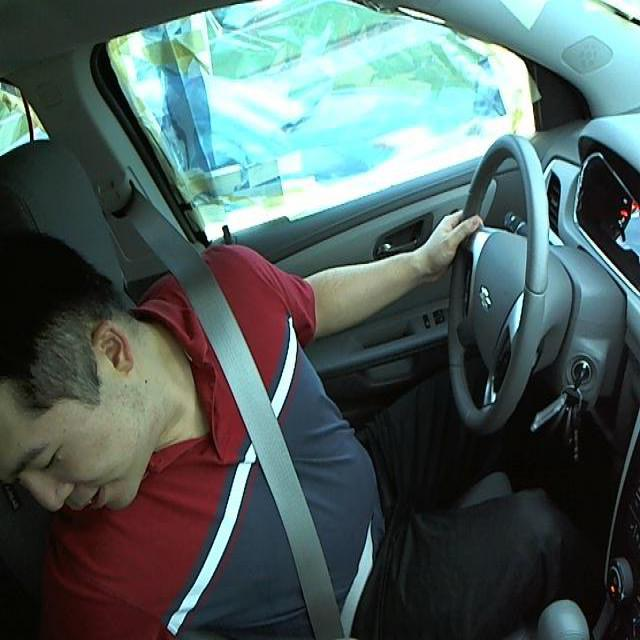seatbelt: (155, 280, 374, 621)
